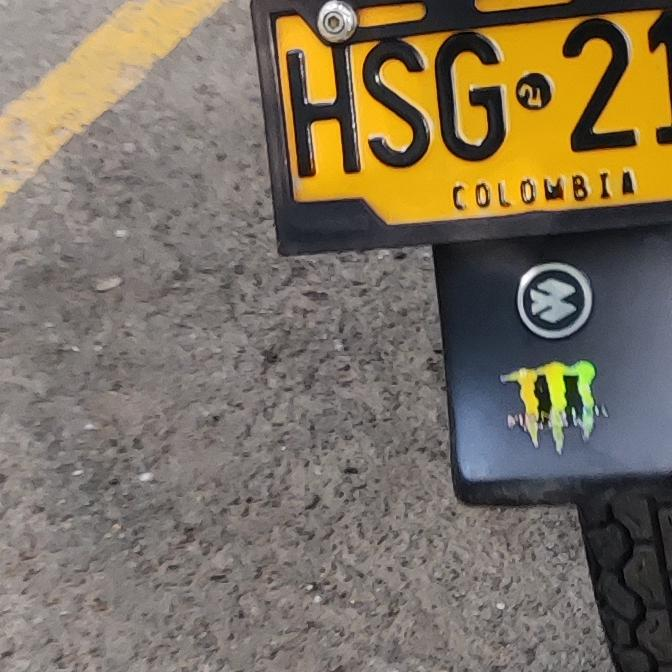plates: (252, 0, 672, 254)
